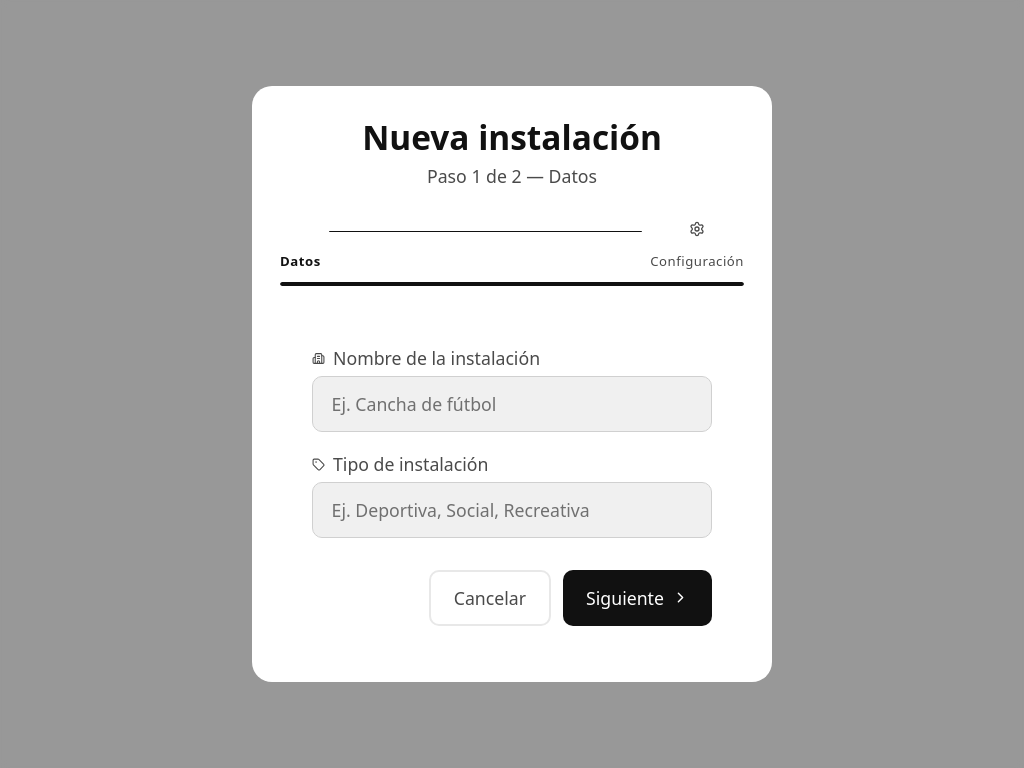
CreateInstalacionForm › no avanza al paso 2 si el nombre está vacío
What coordinates should you click on to do the following:
click the button "Siguiente"
I would click on:
 (638, 598)
Its box is [563,570,712,626].
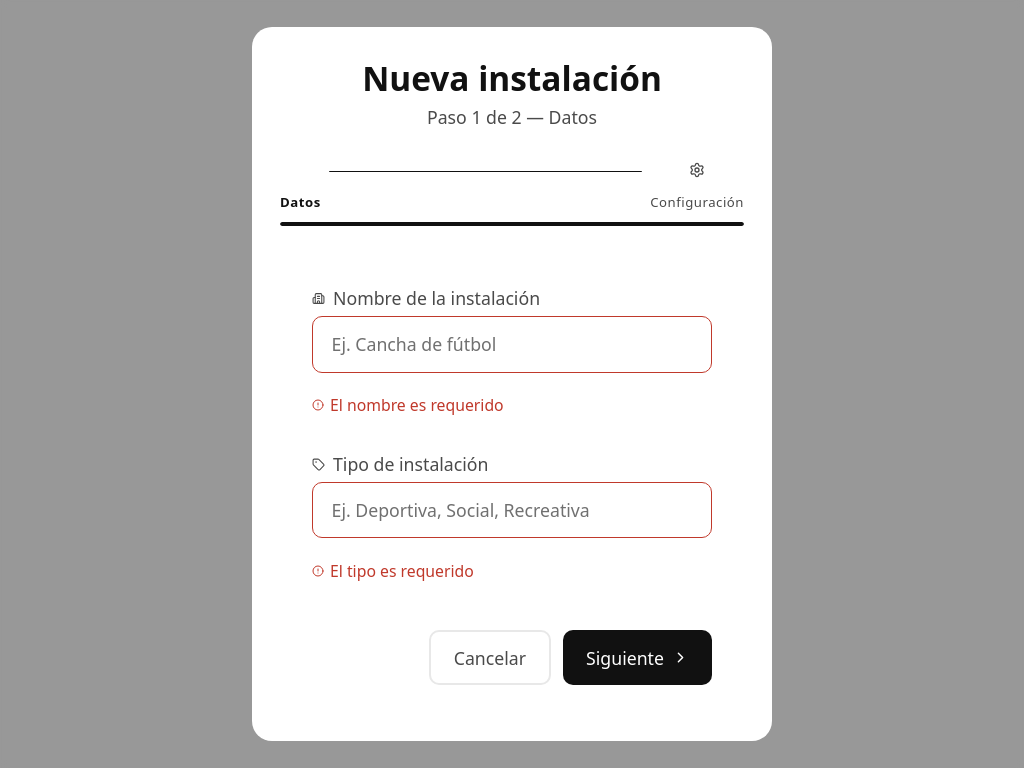
Expected: the text "Paso 1 de 2 — Datos" is shown, [427,105,597,129]
Expected: the text "El nombre es requerido" is shown, [312,394,504,416]
